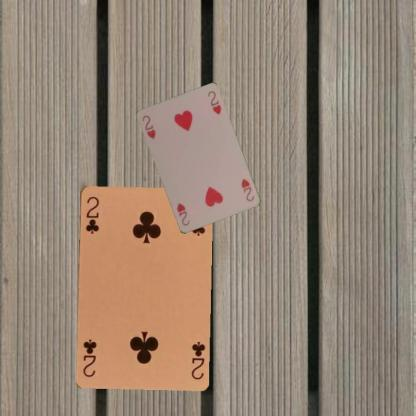2c: (82, 194, 100, 235), (188, 339, 206, 380)
2h: (239, 176, 256, 203), (140, 113, 157, 140)
